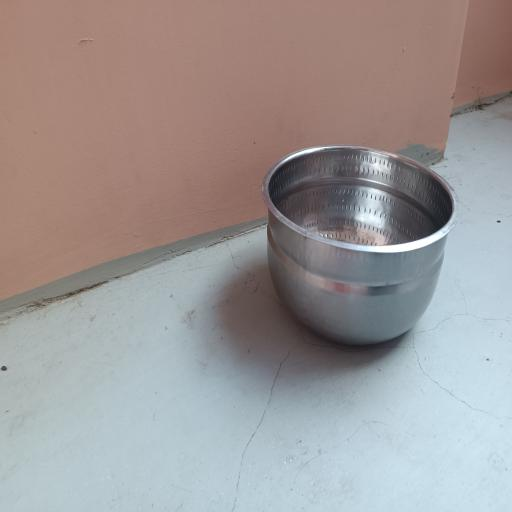vessel: (262, 145, 460, 344)
